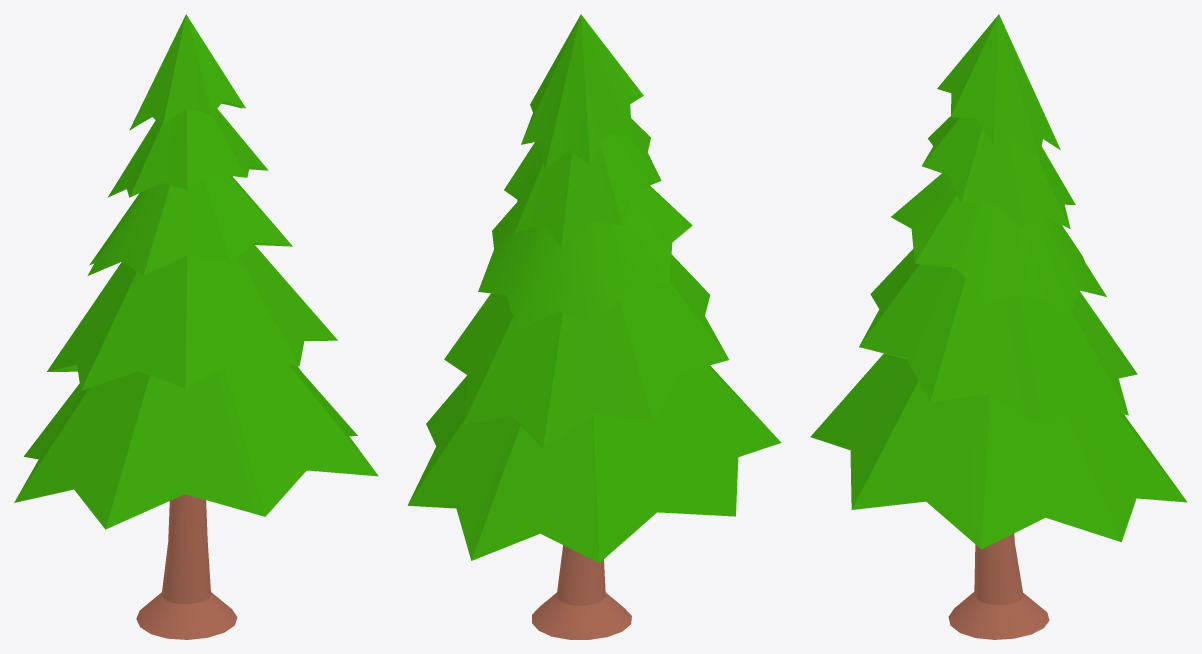
Rendered from object_166_lev1.glb.
3 renders of one model, left to right at view 1: azimuth 30°, elevation 25°; view 2: azimuth 150°, elevation 25°; view 3: azimuth 270°, elevation 25°, orthographic.
Visible parts, largest first — view 1: object_166_lev1; view 2: object_166_lev1; view 3: object_166_lev1.
Part boxes in pixels (bbox=[...]): object_166_lev1: bbox=[14, 14, 378, 639]; object_166_lev1: bbox=[407, 14, 781, 639]; object_166_lev1: bbox=[810, 14, 1187, 639].
Bounding box in the file's own units: 0.7219 × 1.28 × 0.7219.
Materials: 1 (1 with a texture image).
